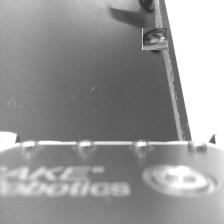Lock: (143, 28, 167, 51)
